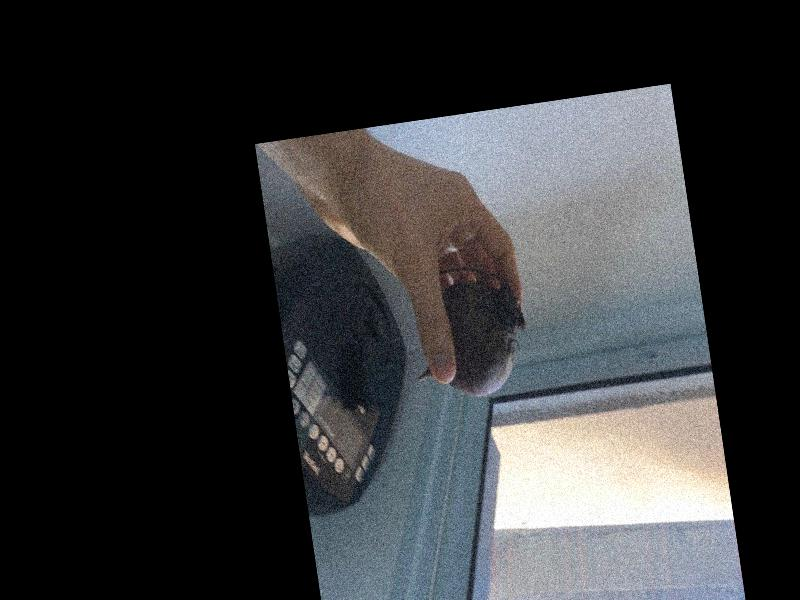Beet: (403, 261, 534, 404)
